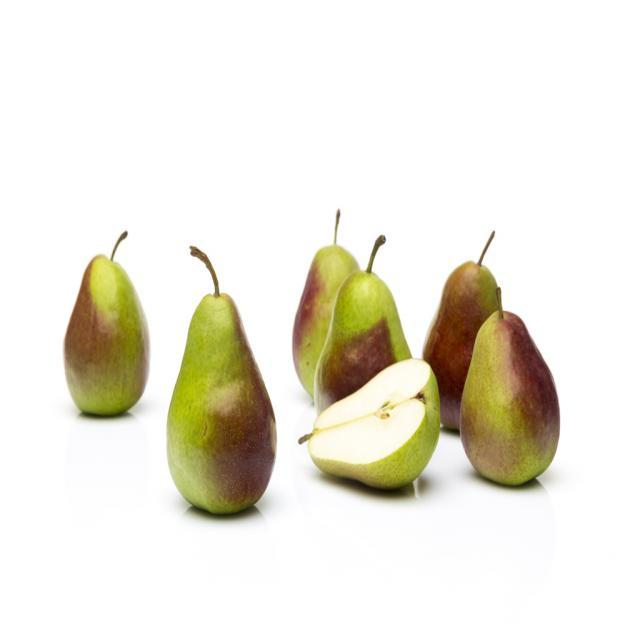Pear: (164, 290, 278, 514), (457, 308, 561, 490), (308, 359, 443, 490), (313, 269, 414, 419), (66, 252, 152, 416), (421, 259, 500, 435), (290, 242, 363, 403)
